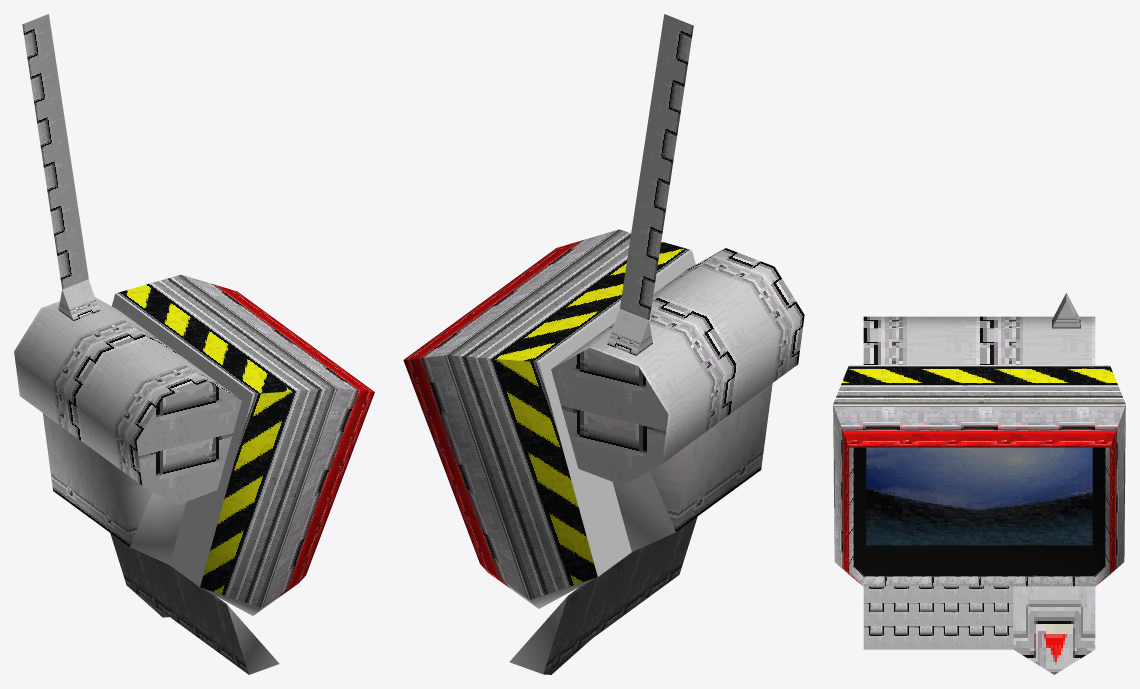
File: Monitor.obj
3 renders of one model, left to right at view 1: azimuth 30°, elevation 25°; view 2: azimuth 150°, elevation 25°; view 3: azimuth 270°, elevation 25°, orthographic. The views are drawn at different scales.
Bounding box in the file's own units: 8.97 × 22.54 × 10.1.
